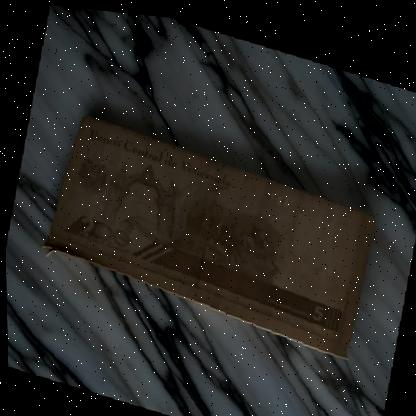five-back-vef: (32, 104, 382, 358)
